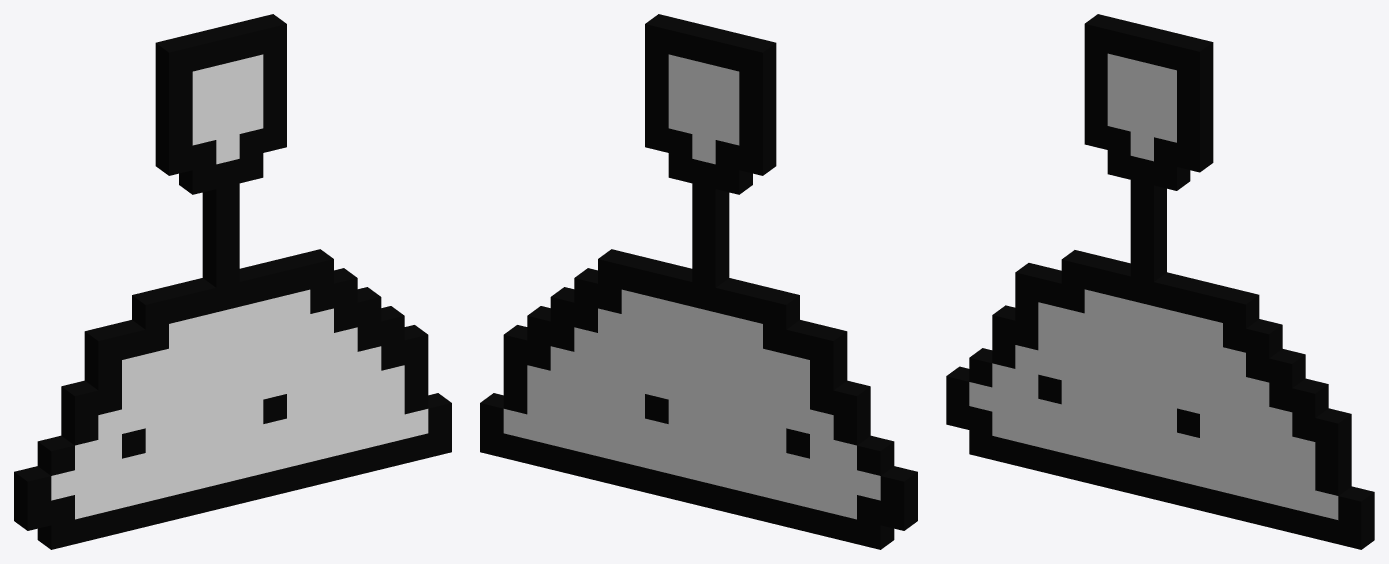
The model's file is slimeking.obj.
The picture shows the model from 3 angles, left to right: view 1: azimuth 30°, elevation 25°; view 2: azimuth 150°, elevation 25°; view 3: azimuth 330°, elevation 25°; orthographic projection. The views are drawn at different scales.
Bounding box in the file's own units: 1.8 × 1.9 × 0.1.
Materials: 1 (1 with a texture image).
